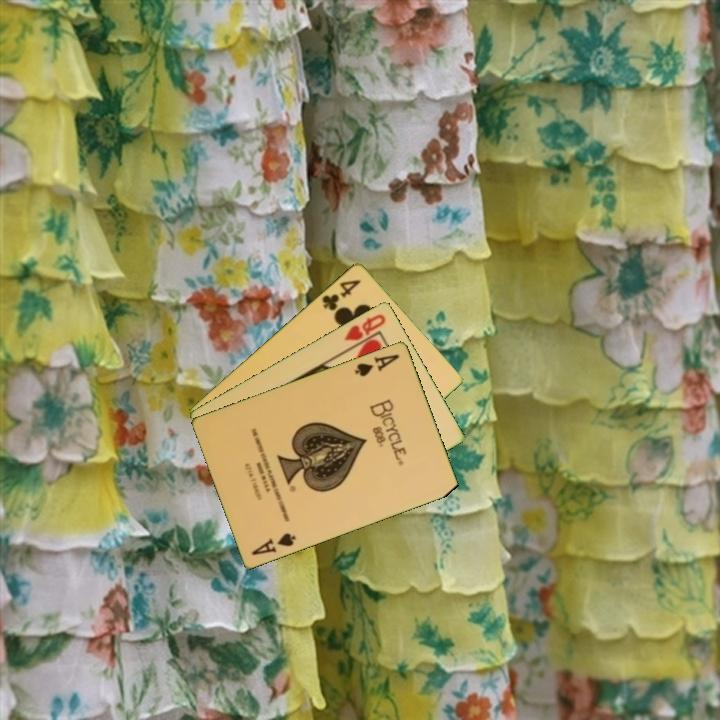4c: (318, 275, 364, 313)
As: (351, 350, 402, 379), (248, 529, 299, 558)
Qh: (340, 310, 389, 343)
